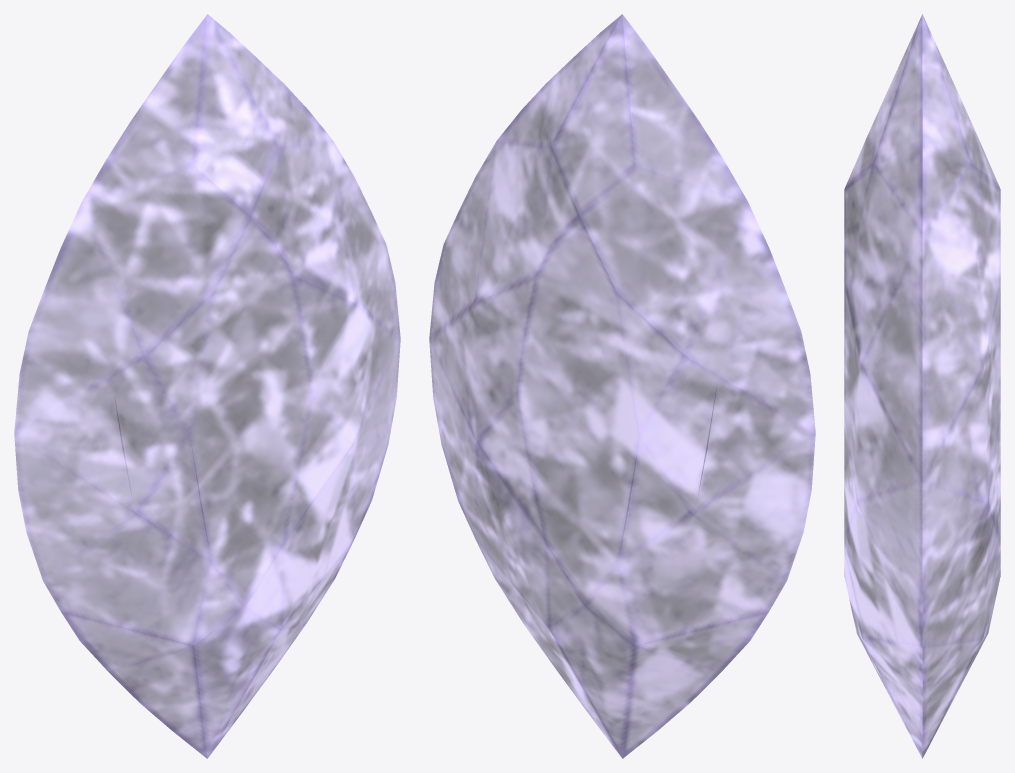
The model's file is Marguise.glb.
3 views of the same model, side by side, from view 1: azimuth 30°, elevation 25°; view 2: azimuth 150°, elevation 25°; view 3: azimuth 270°, elevation 25° (orthographic).
Visible parts, largest first — view 1: Plane.010_Diamond_Master_0; view 2: Plane.010_Diamond_Master_0; view 3: Plane.010_Diamond_Master_0.
Part boxes in pixels (x1,y1,x2,y2): Plane.010_Diamond_Master_0: [14, 14, 400, 758]; Plane.010_Diamond_Master_0: [429, 14, 815, 758]; Plane.010_Diamond_Master_0: [844, 14, 1000, 758].
Bounding box in the file's own units: 0.6845 × 1.26 × 0.2401.
Materials: 1 (1 with a texture image).
